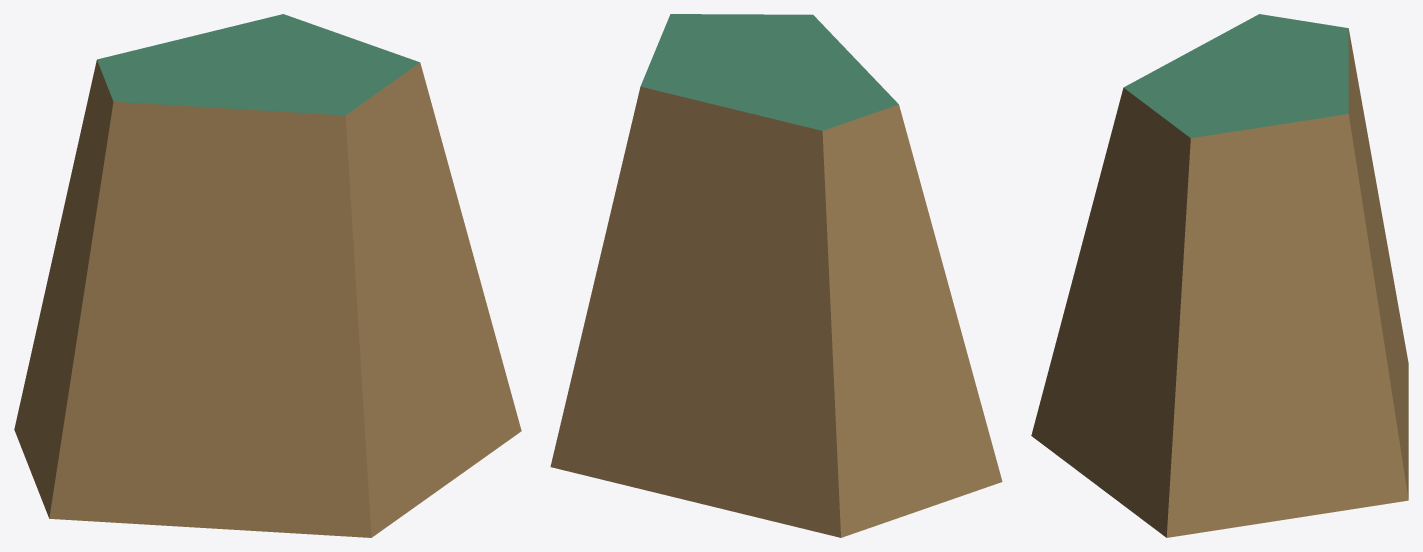
File: Rock_Small_Mesa_Eroded_Moss_Grass_10.FBX
3 renders of one model, left to right at view 1: azimuth 30°, elevation 25°; view 2: azimuth 150°, elevation 25°; view 3: azimuth 270°, elevation 25°, orthographic. The views are drawn at different scales.
Parts seen in each view (by area): view 1: Rock_Small_Mesa_Eroded_Moss_Grass_10; view 2: Rock_Small_Mesa_Eroded_Moss_Grass_10; view 3: Rock_Small_Mesa_Eroded_Moss_Grass_10.
Boxes of the visible parts, bbox=[...] form: Rock_Small_Mesa_Eroded_Moss_Grass_10: bbox=[14, 14, 521, 537]; Rock_Small_Mesa_Eroded_Moss_Grass_10: bbox=[550, 14, 1002, 537]; Rock_Small_Mesa_Eroded_Moss_Grass_10: bbox=[1031, 14, 1408, 537].
Size of the model in its own units: 1903 by 1560 by 1487.
